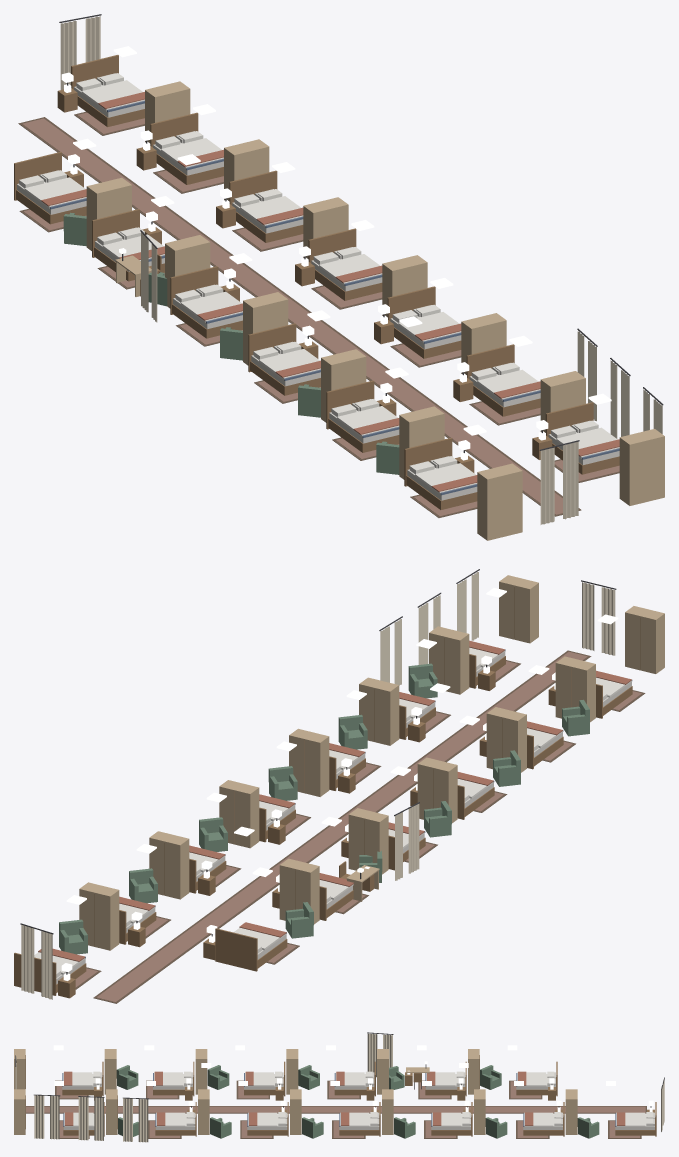
The model's file is fine-s1.glb.
3 renders of one model, top to bottom at view 1: azimuth 30°, elevation 25°; view 2: azimuth 150°, elevation 25°; view 3: azimuth 270°, elevation 25°, orthographic. The views are drawn at different scales.
Parts seen in each view (by area): view 1: soft-s1, dresser.005, dresser.012, bed-frame.005, bed-frame.004, bed-frame.007, bed-frame.002, bed-frame.008, bed-frame.009, bed-frame.003, bed-frame.010, bed-frame.011 (+15 smaller); view 2: soft-s1, dresser.005, dresser.012, dresser.010, dresser.009, dresser.007, dresser.006, dresser.011, dresser.008, dresser.001, dresser.003, dresser.004 (+18 smaller); view 3: soft-s1, dresser.006, dresser.002, dresser.007, dresser.008, dresser.009, dresser.010, dresser.011, dresser.012, dresser.004, dresser.000, dresser.001 (+25 smaller).
Part boxes in pixels (x1=…): soft-s1: x1=18, y1=14, x2=663, y2=524; dresser.005: x1=477, y1=463, x2=522, y2=540; dresser.012: x1=619, y1=429, x2=664, y2=505; bed-frame.005: x1=404, y1=437, x2=477, y2=509; bed-frame.004: x1=326, y1=380, x2=399, y2=452; bed-frame.007: x1=150, y1=112, x2=223, y2=184; bed-frame.002: x1=170, y1=266, x2=242, y2=338; bed-frame.008: x1=229, y1=170, x2=303, y2=242; bed-frame.009: x1=308, y1=228, x2=382, y2=300; bed-frame.003: x1=248, y1=323, x2=320, y2=395; bed-frame.010: x1=387, y1=286, x2=461, y2=358; bed-frame.011: x1=466, y1=344, x2=540, y2=416; soft-s1: x1=20, y1=569, x2=645, y2=1003; dresser.005: x1=625, y1=606, x2=664, y2=673; dresser.012: x1=499, y1=575, x2=538, y2=643; dresser.010: x1=359, y1=677, x2=399, y2=745; dresser.009: x1=289, y1=728, x2=329, y2=796; dresser.007: x1=149, y1=831, x2=189, y2=899; dresser.006: x1=79, y1=882, x2=119, y2=950; dresser.011: x1=429, y1=626, x2=469, y2=694; dresser.008: x1=219, y1=780, x2=259, y2=848; dresser.001: x1=348, y1=808, x2=388, y2=874; dresser.003: x1=486, y1=707, x2=526, y2=772; dresser.004: x1=555, y1=656, x2=595, y2=722; soft-s1: x1=15, y1=1032, x2=664, y2=1142; dresser.006: x1=565, y1=1089, x2=577, y2=1134; dresser.002: x1=286, y1=1049, x2=298, y2=1094; dresser.007: x1=474, y1=1089, x2=485, y2=1134; dresser.008: x1=382, y1=1089, x2=393, y2=1134; dresser.009: x1=290, y1=1089, x2=301, y2=1134; dresser.010: x1=198, y1=1089, x2=209, y2=1134; dresser.011: x1=106, y1=1089, x2=117, y2=1134; dresser.012: x1=14, y1=1089, x2=25, y2=1134; dresser.004: x1=104, y1=1049, x2=116, y2=1094; dresser.000: x1=468, y1=1049, x2=479, y2=1094; dresser.001: x1=377, y1=1049, x2=388, y2=1094.
Size of the model in its own units: 7.97 by 2.52 by 33.06.
